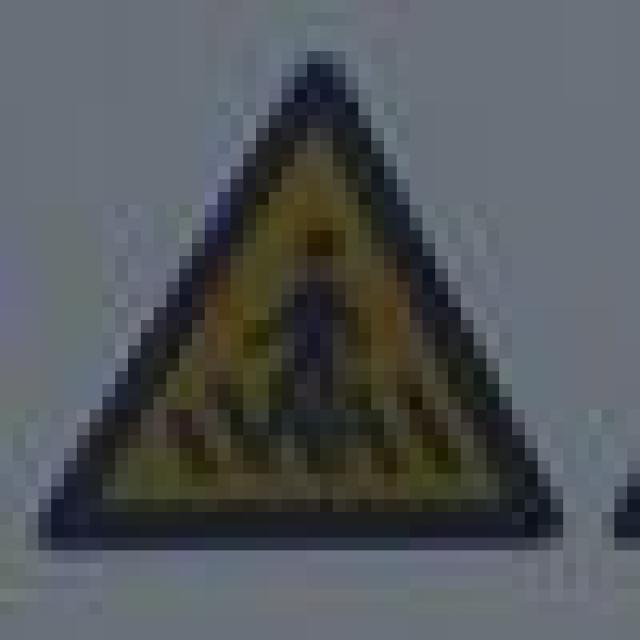pass_either_side: (26, 39, 550, 538)
